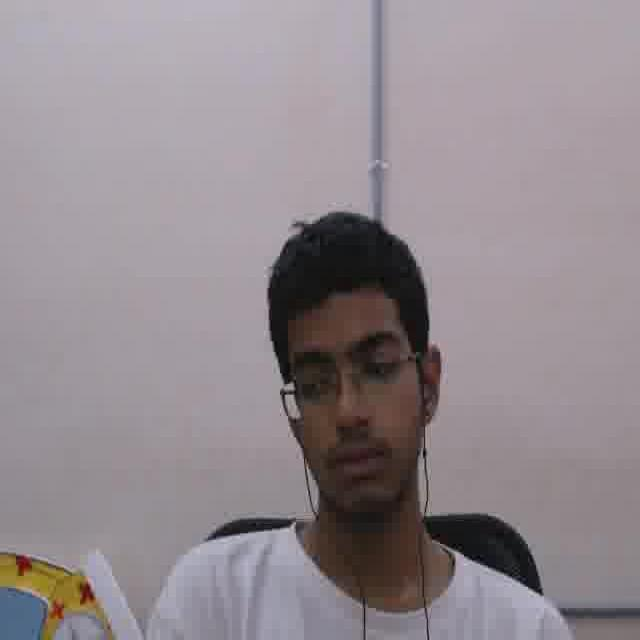Boredom: (283, 285, 420, 511)
